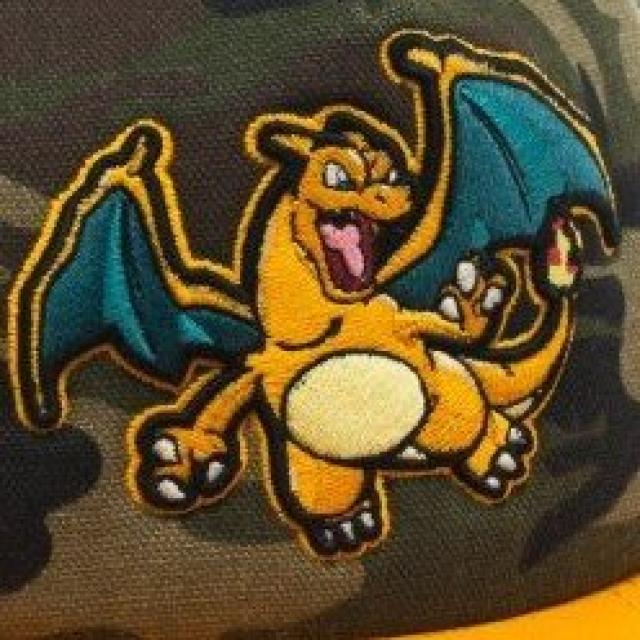Charizard: (86, 107, 550, 524)
